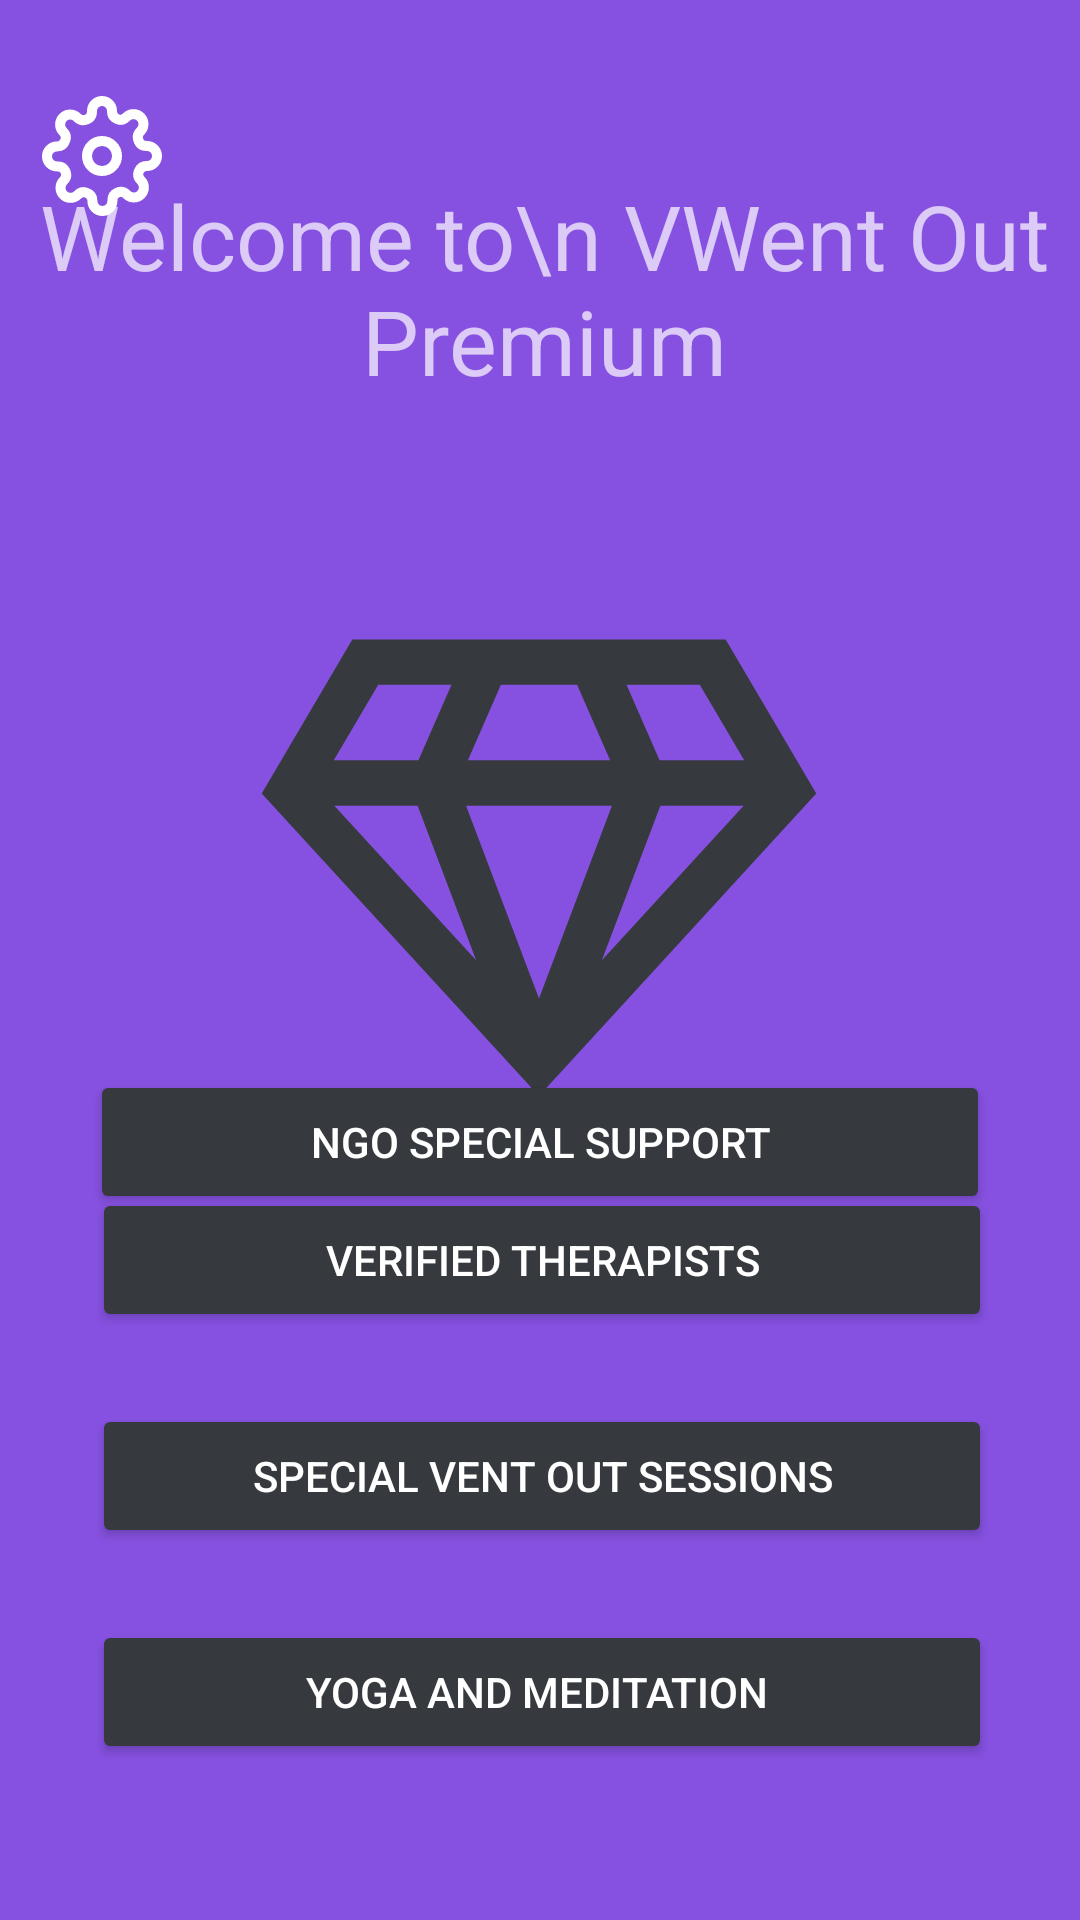

Screen size 1080px×1920px. Icon name, then its box in pixels as box=[x1, y1, x2, y2]:
settings: box=[42, 96, 162, 216]
